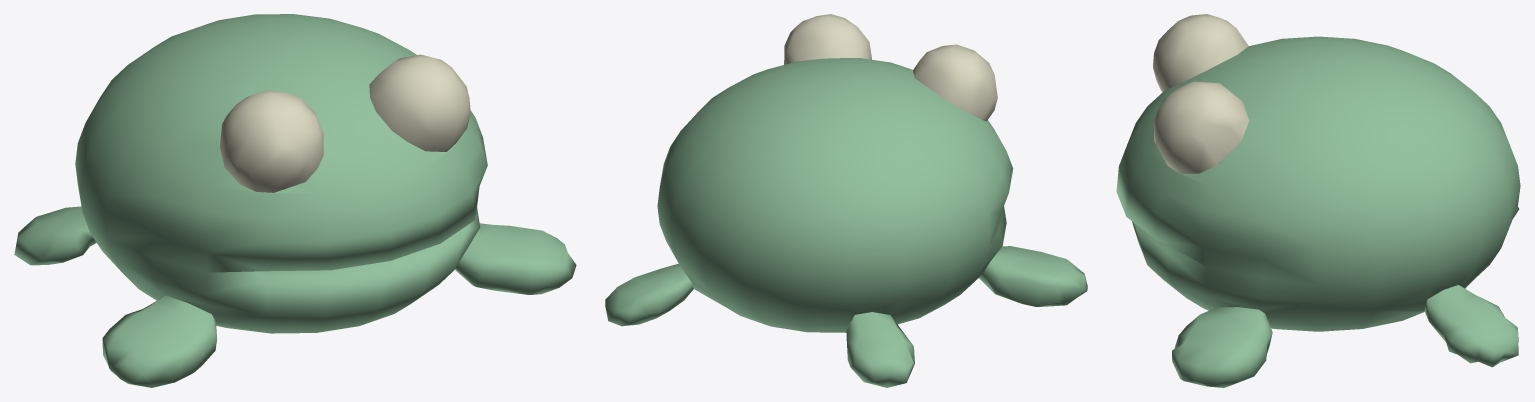
The model's file is Frog.fbx.
3 renders of one model, left to right at view 1: azimuth 30°, elevation 25°; view 2: azimuth 150°, elevation 25°; view 3: azimuth 270°, elevation 25°, orthographic. The views are drawn at different scales.
Visible parts, largest first — view 1: Frog; view 2: Frog; view 3: Frog.
Part boxes in pixels (x1,y1,x2,y2): Frog: (14,14,576,387); Frog: (605,14,1087,387); Frog: (1116,14,1520,387).
Size of the model in its own units: 67.08 by 36.19 by 54.64.
